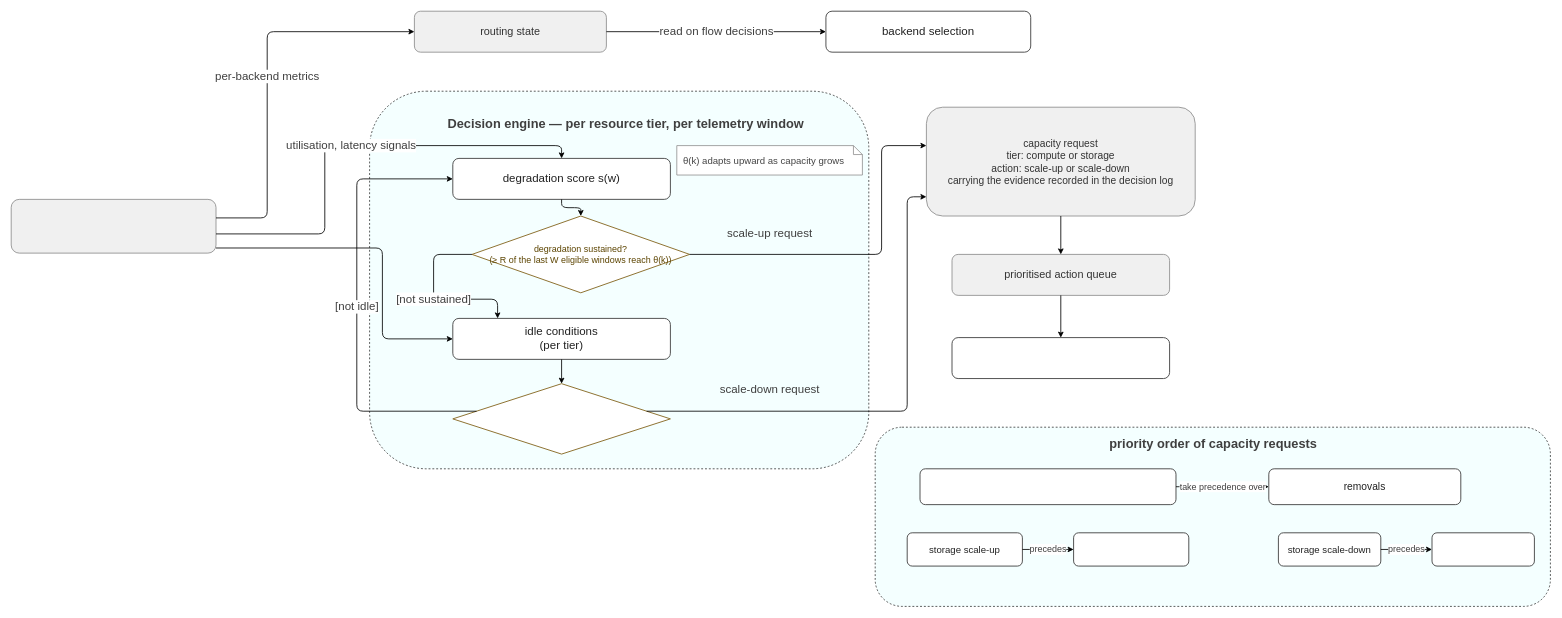
Some shapes in this 1562 by 618 pixel diagram are drawn without their labels. Here are the shapes that lost their labels. From the top down, the centre of each, then its label:
the point at 113,226: windowed summaries (from the aggregators)
the point at 1060,358: action context executes
the point at 561,418: idleness sustained? (R↓ of the last W↓ windows)
the point at 1047,486: additions and preservations
the point at 1131,549: compute scale-up
the point at 1483,549: compute scale-down
